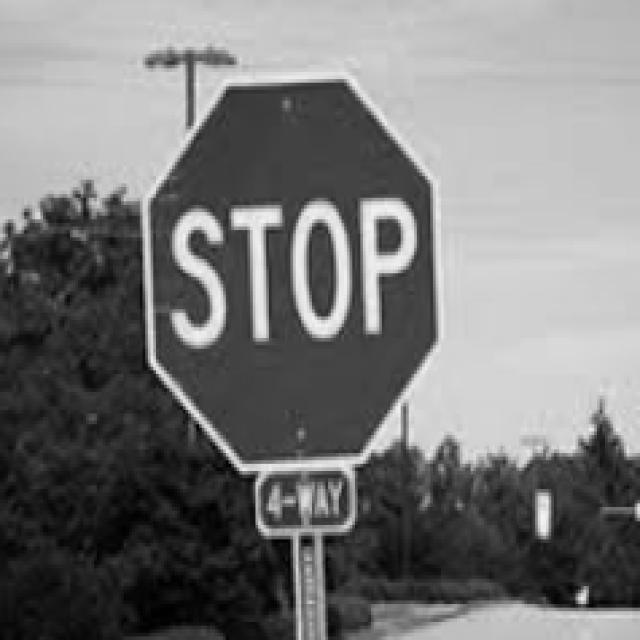Stop-signs: (143, 69, 445, 470)
